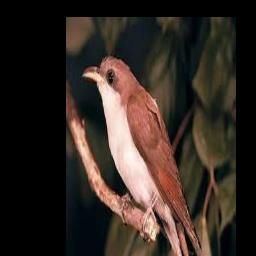Cuckoo: (82, 56, 202, 250)
